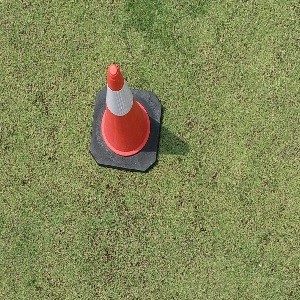traffic cone: (88, 64, 162, 173)
